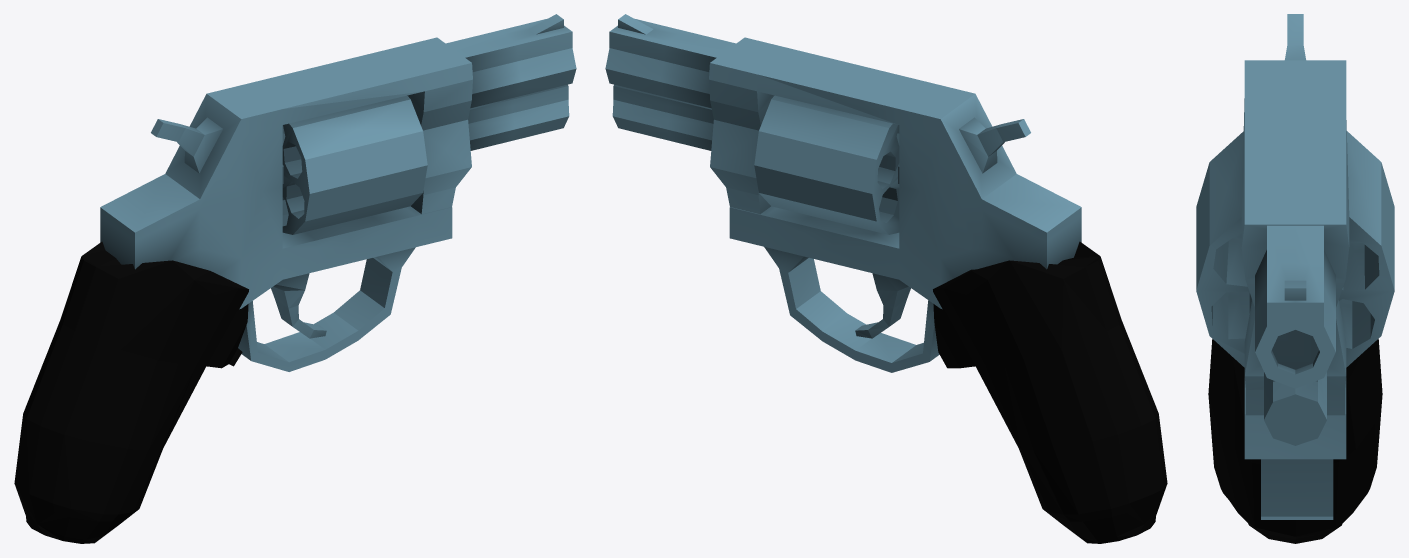
The model's file is z-revolver-01.glb.
3 views of the same model, side by side, from view 1: azimuth 30°, elevation 25°; view 2: azimuth 150°, elevation 25°; view 3: azimuth 270°, elevation 25° (orthographic). The views are drawn at different scales.
Parts seen in each view (by area): view 1: body; view 2: body; view 3: body.
Boxes of the visible parts, <box> form: body: <box>14,14,576,543</box>; body: <box>605,14,1167,543</box>; body: <box>1196,14,1394,543</box>.
Size of the model in its own units: 0.26 by 0.1835 by 0.0563.
